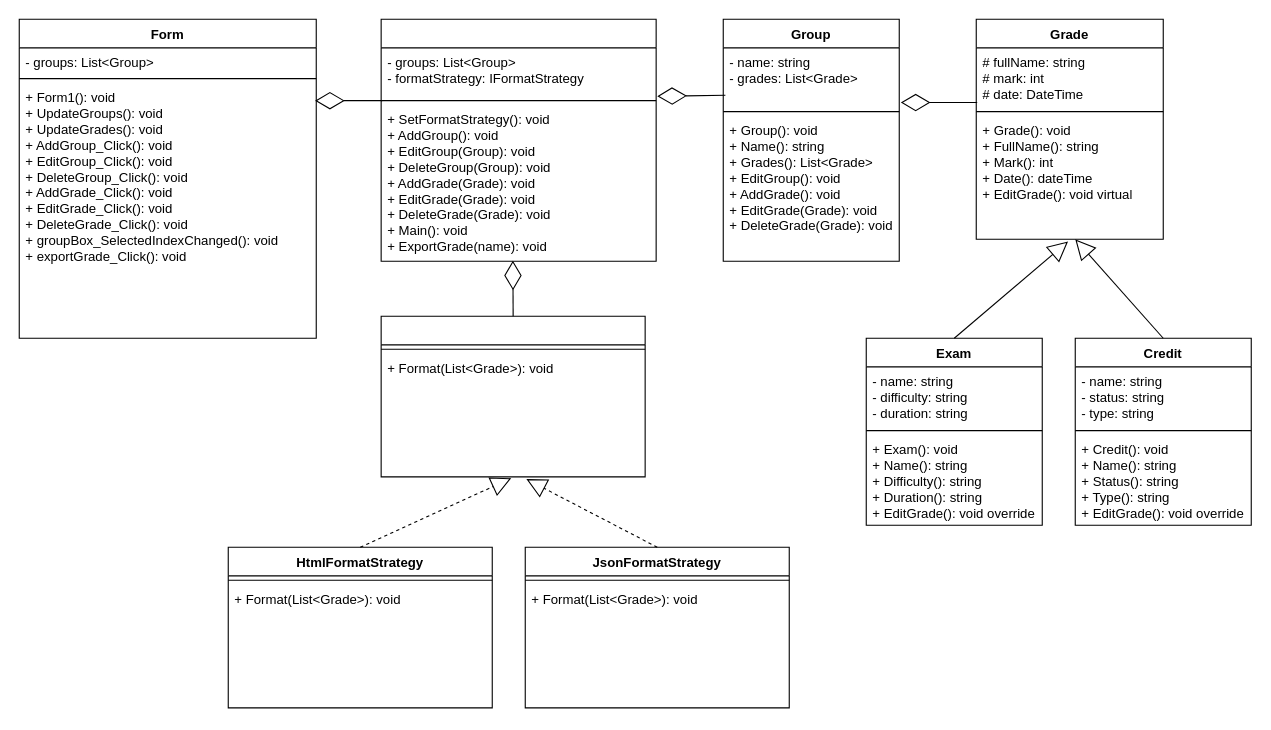
This 1271x730 diagram has some shape labels left out. Here are the shapes that lost their labels. From the top down, the box of each, then its label:
(380, 18, 656, 261): Program
(380, 315, 645, 477): IFormatStrategy
